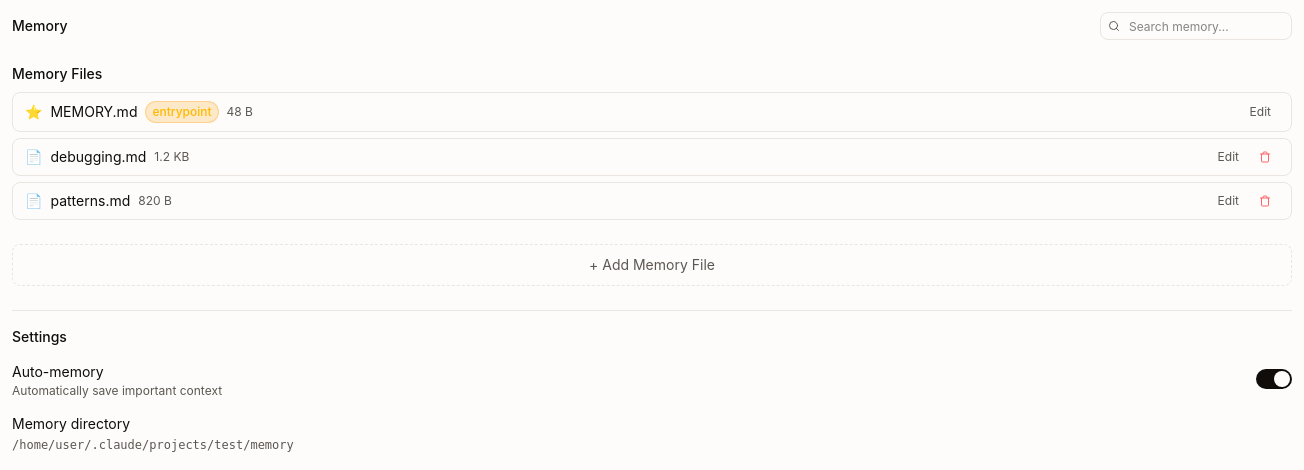
MemoryPanel › delete shows confirmation
The width and height of the screenshot is (1304, 470).
Click delete on debugging.md (non-entrypoint)
Click the button with test id "memory-delete-btn-debugging.md". click: point(1265, 157)
box: [1251, 149, 1279, 165]
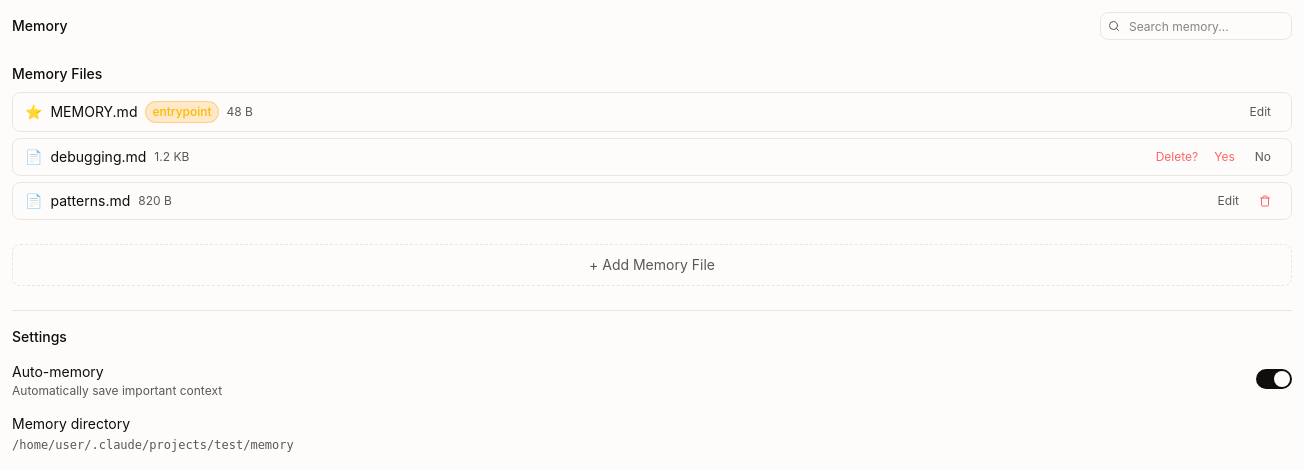
Result: the button with test id "memory-delete-confirm-debugging.md" is shown at [1206, 147, 1243, 167]
